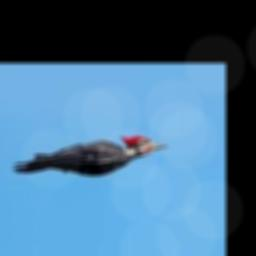Woodpecker: (11, 134, 166, 176)
